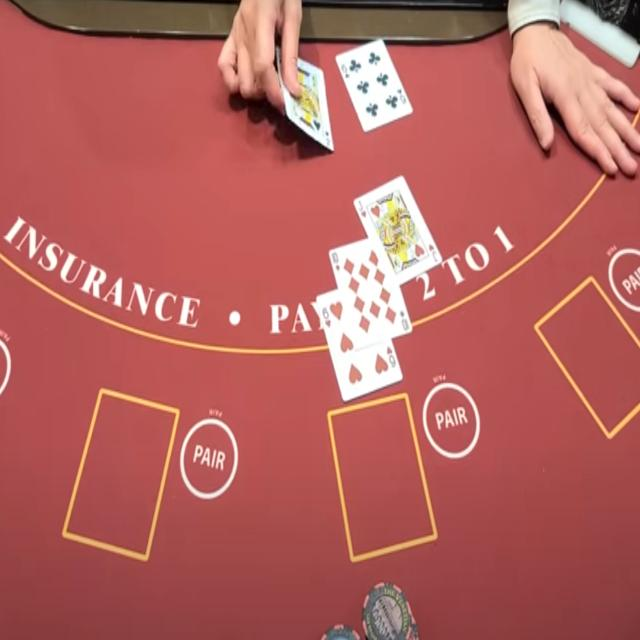10: (330, 250, 340, 265)
6: (321, 304, 330, 320), (339, 60, 348, 74)
J: (356, 199, 365, 212)
